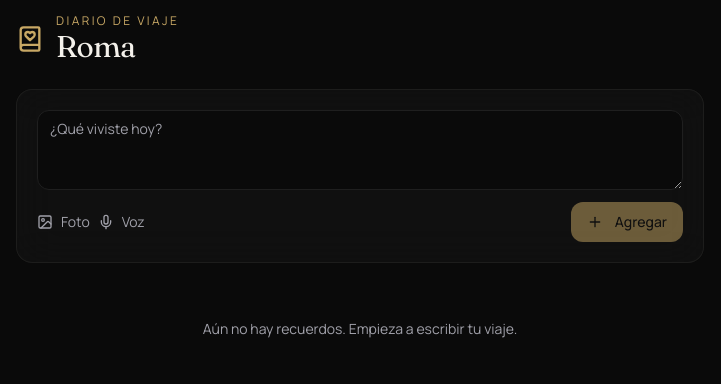
nota de voz en el diario (dictado del navegador, Web Speech API) › dicta en es-MX, muestra lo que va oyendo y al detener lo deja en el cuadro (sin llamar al servidor)
Expected: the heading "Roma" is shown, [56, 28, 136, 65]
Click the button with aria-label "Grabar nota de voz" at (121, 222), box [98, 212, 145, 232]
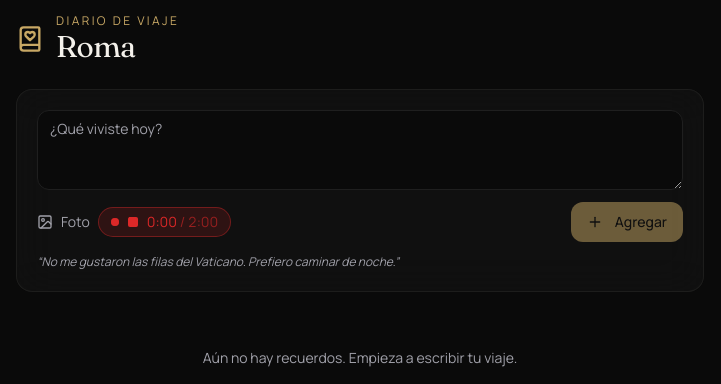
Expected: the element with test id "voice-timer" is shown, [147, 212, 218, 232]
Expected: the text "“No me gustaron las filas del Vaticano. prefiero caminar”" is shown, [37, 253, 399, 270]
Click the button named "Detener grabación" at (164, 222), box [98, 207, 231, 237]
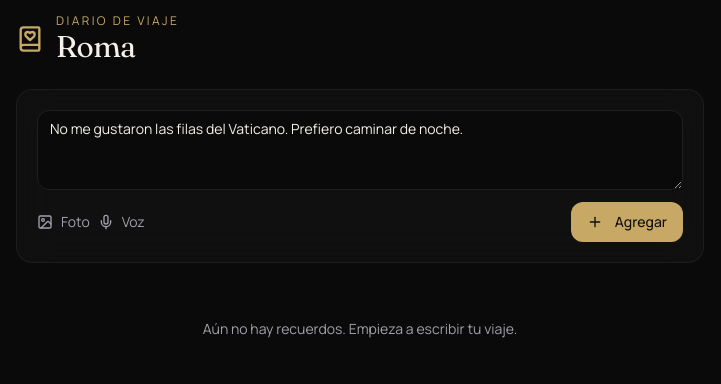
Expected: the text box named "Entrada del diario" holds "No me gustaron las filas del Vaticano. Prefiero caminar de noche.", [37, 110, 683, 190]
